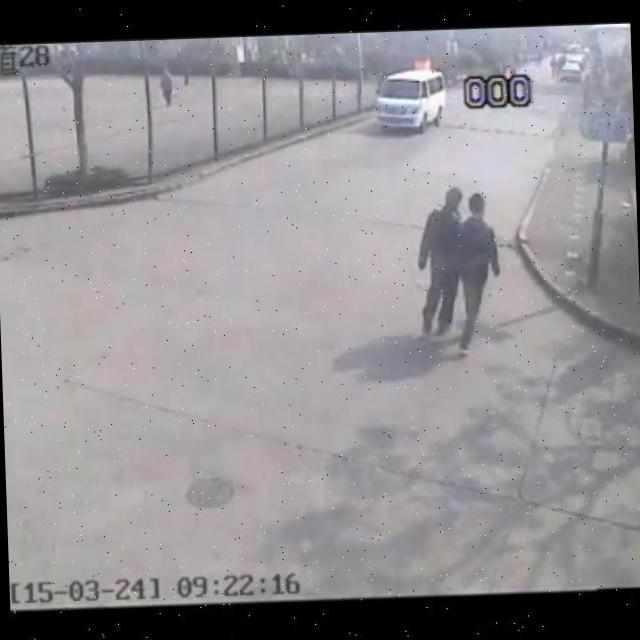person: (412, 182, 470, 342), (456, 190, 507, 357)
